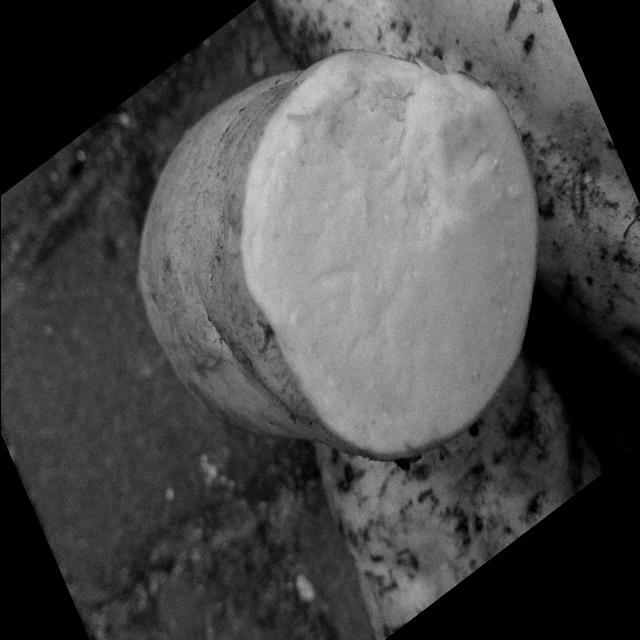Healthy Sweet Potato: (241, 50, 536, 458)
